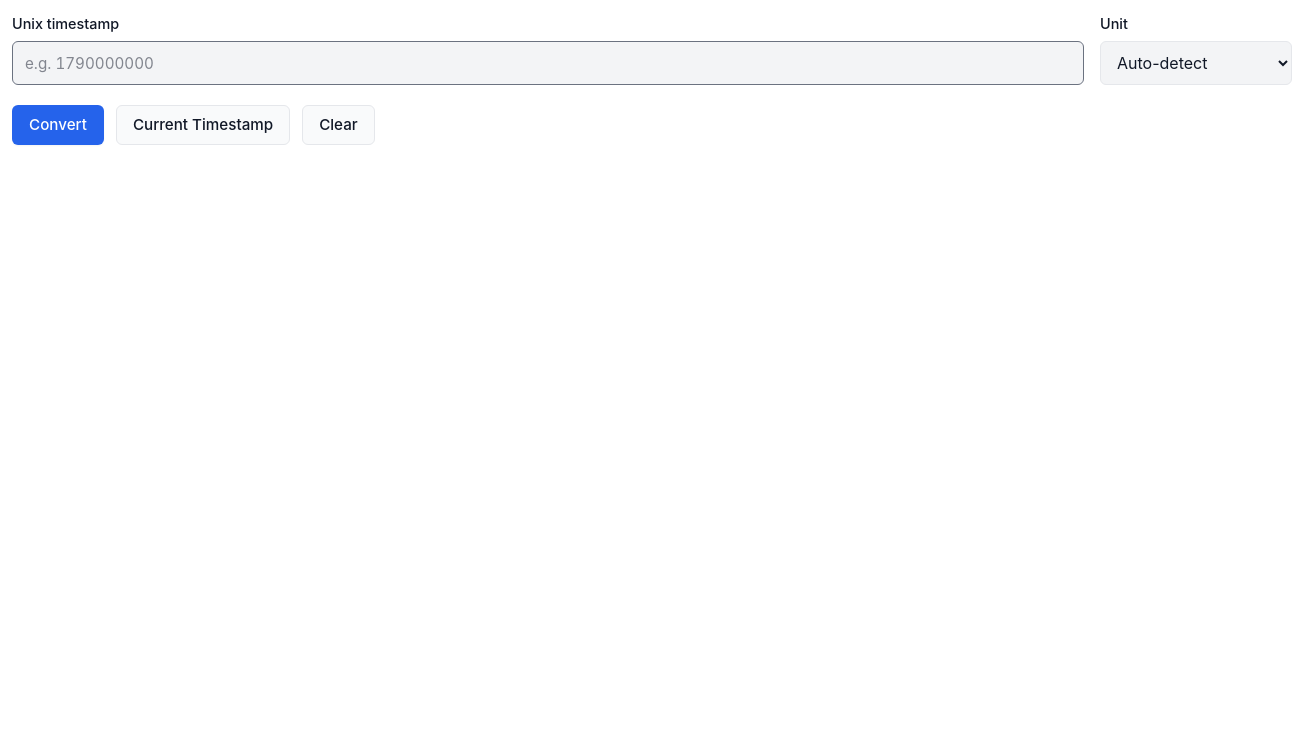
Scenario: Unix Timestamp Converter › honours the unit select
Type "1790000000" into the field labelled "Unix timestamp" at (548, 63), box [12,41,1084,85]
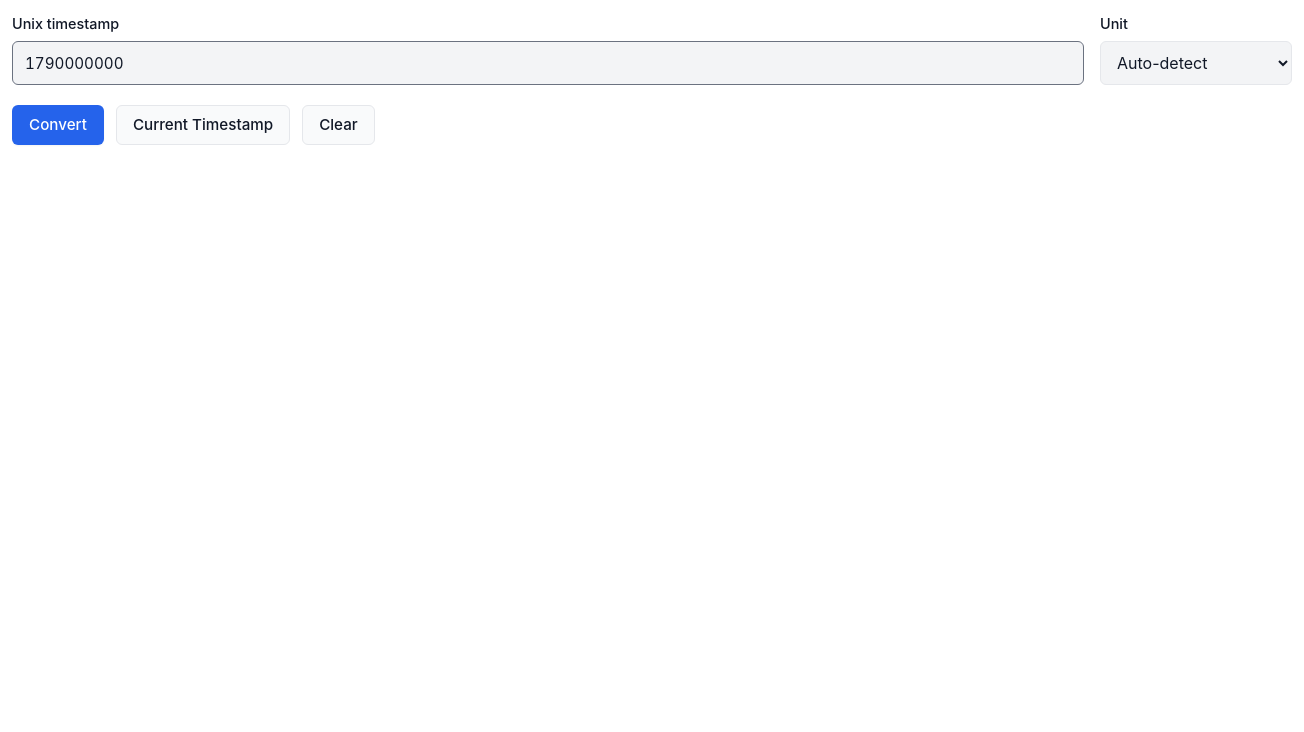
Select "Milliseconds" in the dropdown labelled "Unit" at (1196, 63), box [1100,41,1292,85]
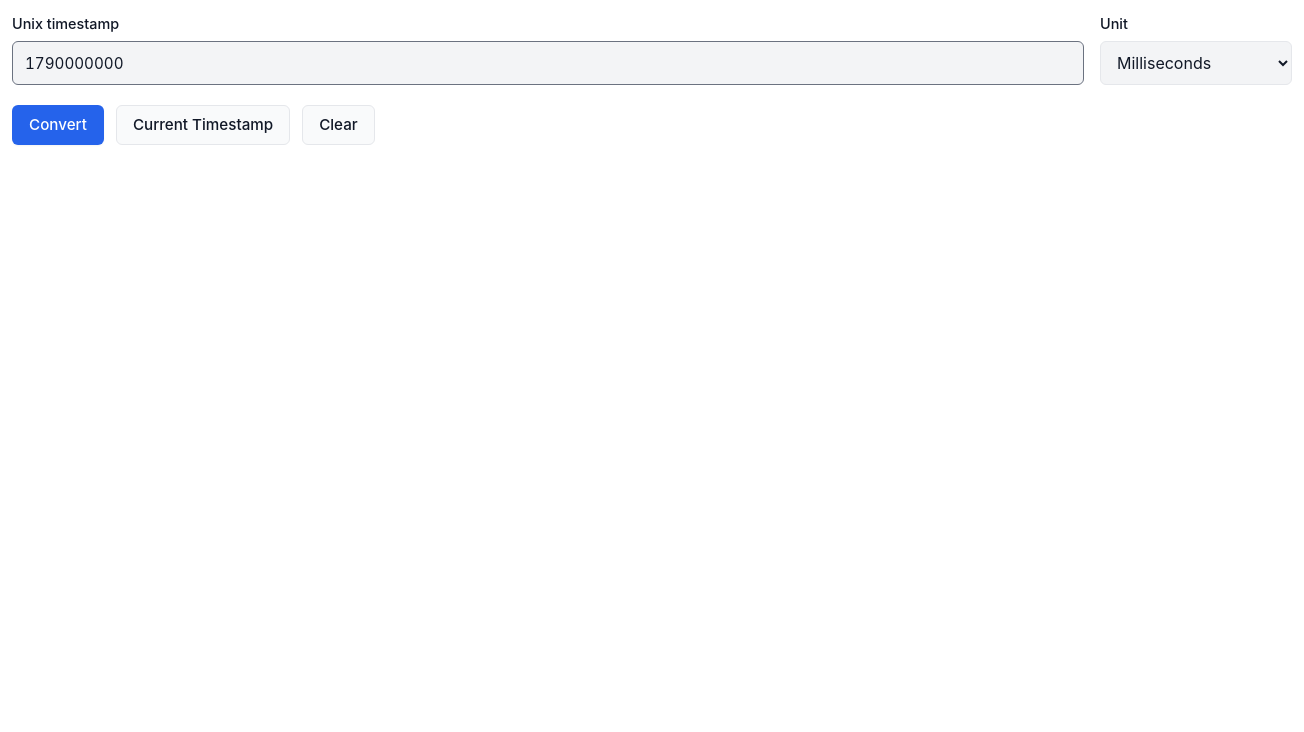
Click the button "Convert" at (58, 125), box [12,105,104,145]
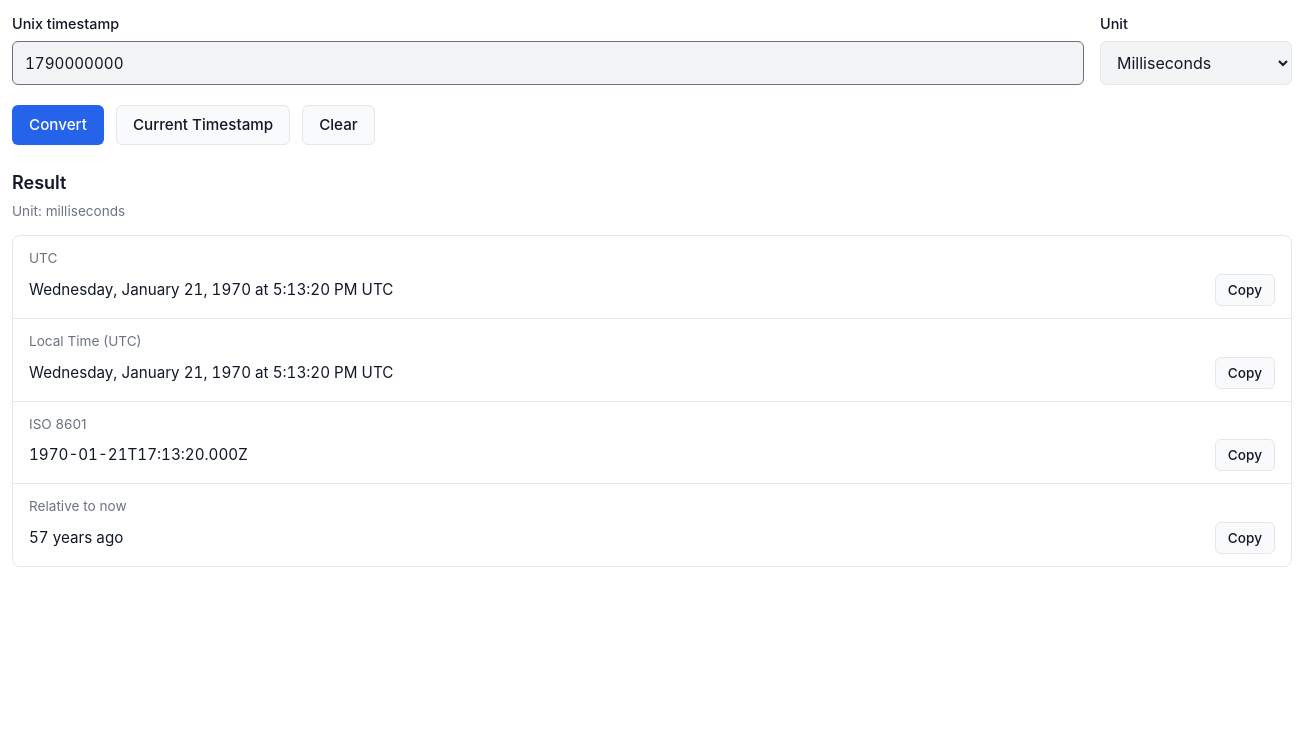
Result: the text "1970-01-21T17:13:20.000Z" is shown at [29,445,248,464]
Result: the text "Unit: milliseconds" is shown at [12,203,125,219]
